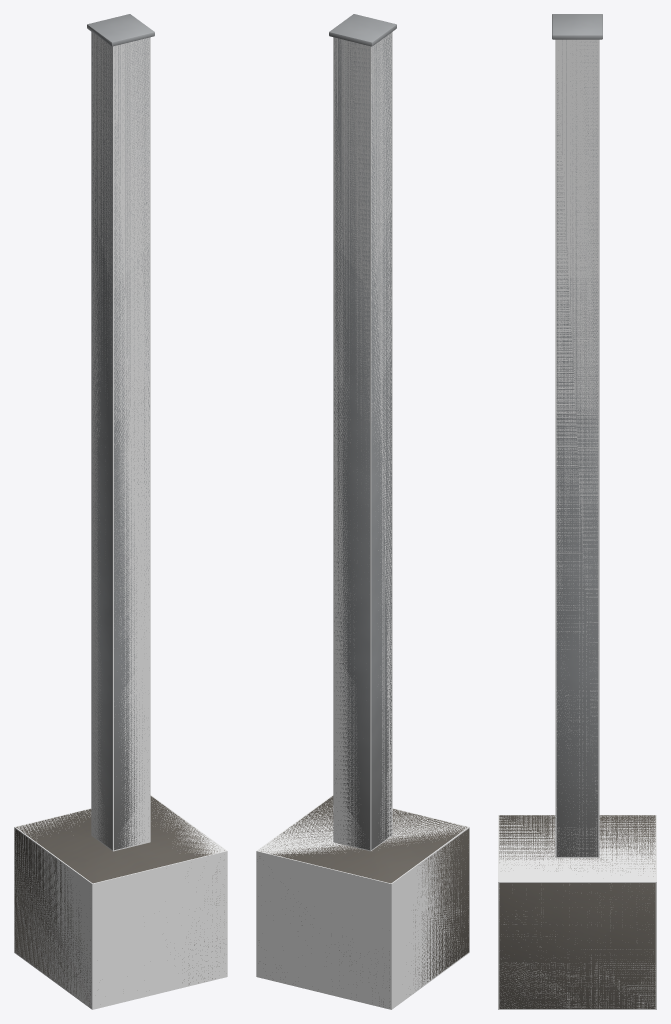
The model's file is Fence_Post_Corner.glb.
3 views of the same model, side by side, from view 1: azimuth 30°, elevation 25°; view 2: azimuth 150°, elevation 25°; view 3: azimuth 270°, elevation 25° (orthographic).
Visible parts, largest first — view 1: Fence_Post_Corner; view 2: Fence_Post_Corner; view 3: Fence_Post_Corner.
Part boxes in pixels (<box>): Fence_Post_Corner: <box>14,14,227,1009</box>; Fence_Post_Corner: <box>256,14,469,1009</box>; Fence_Post_Corner: <box>498,14,656,1009</box>.
Bounding box in the file's own units: 0.36 × 2.38 × 0.36.
Materials: 2 (1 with a texture image).
